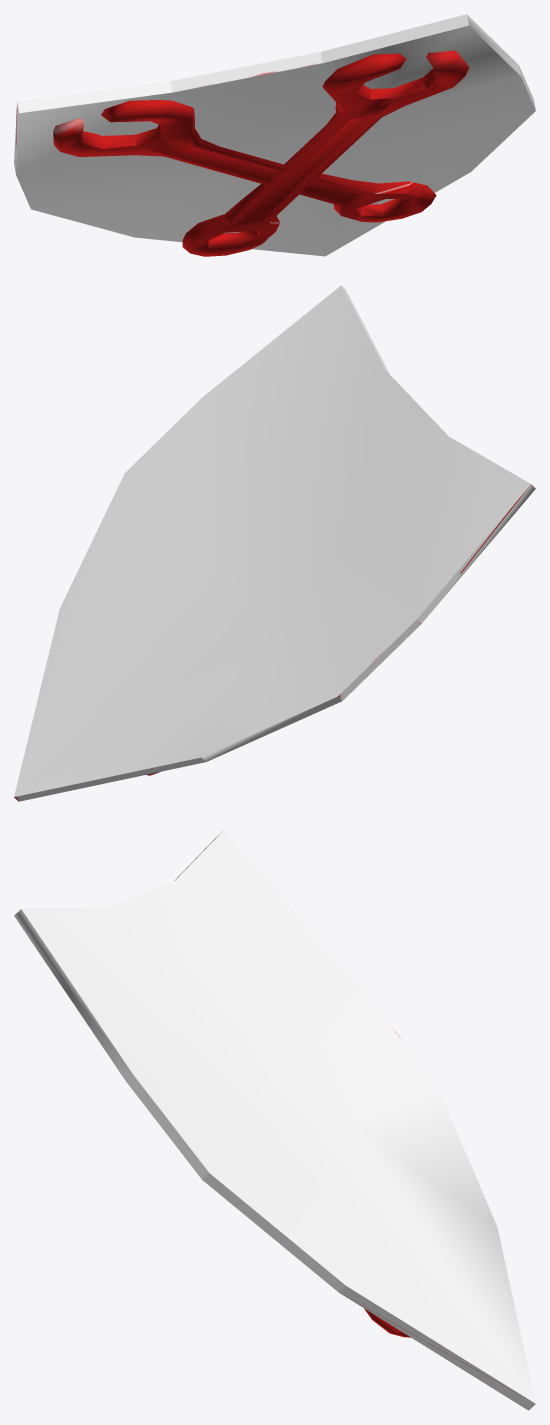
Rendered from insta_health.fbx.
The picture shows the model from 3 angles, top to bottom: view 1: azimuth 30°, elevation 25°; view 2: azimuth 150°, elevation 25°; view 3: azimuth 270°, elevation 25°; orthographic projection. The views are drawn at different scales.
Parts seen in each view (by area): view 1: Box02_01_-_Defaultk; view 2: Box02_01_-_Defaultk; view 3: Box02_01_-_Defaultk.
Part boxes in pixels (x1,y1,x2,y2): Box02_01_-_Defaultk: [14, 14, 535, 256]; Box02_01_-_Defaultk: [14, 285, 535, 801]; Box02_01_-_Defaultk: [14, 830, 535, 1410].
Size of the model in its own units: 38.57 by 33.48 by 35.76.
Materials: 1 (1 with a texture image).
